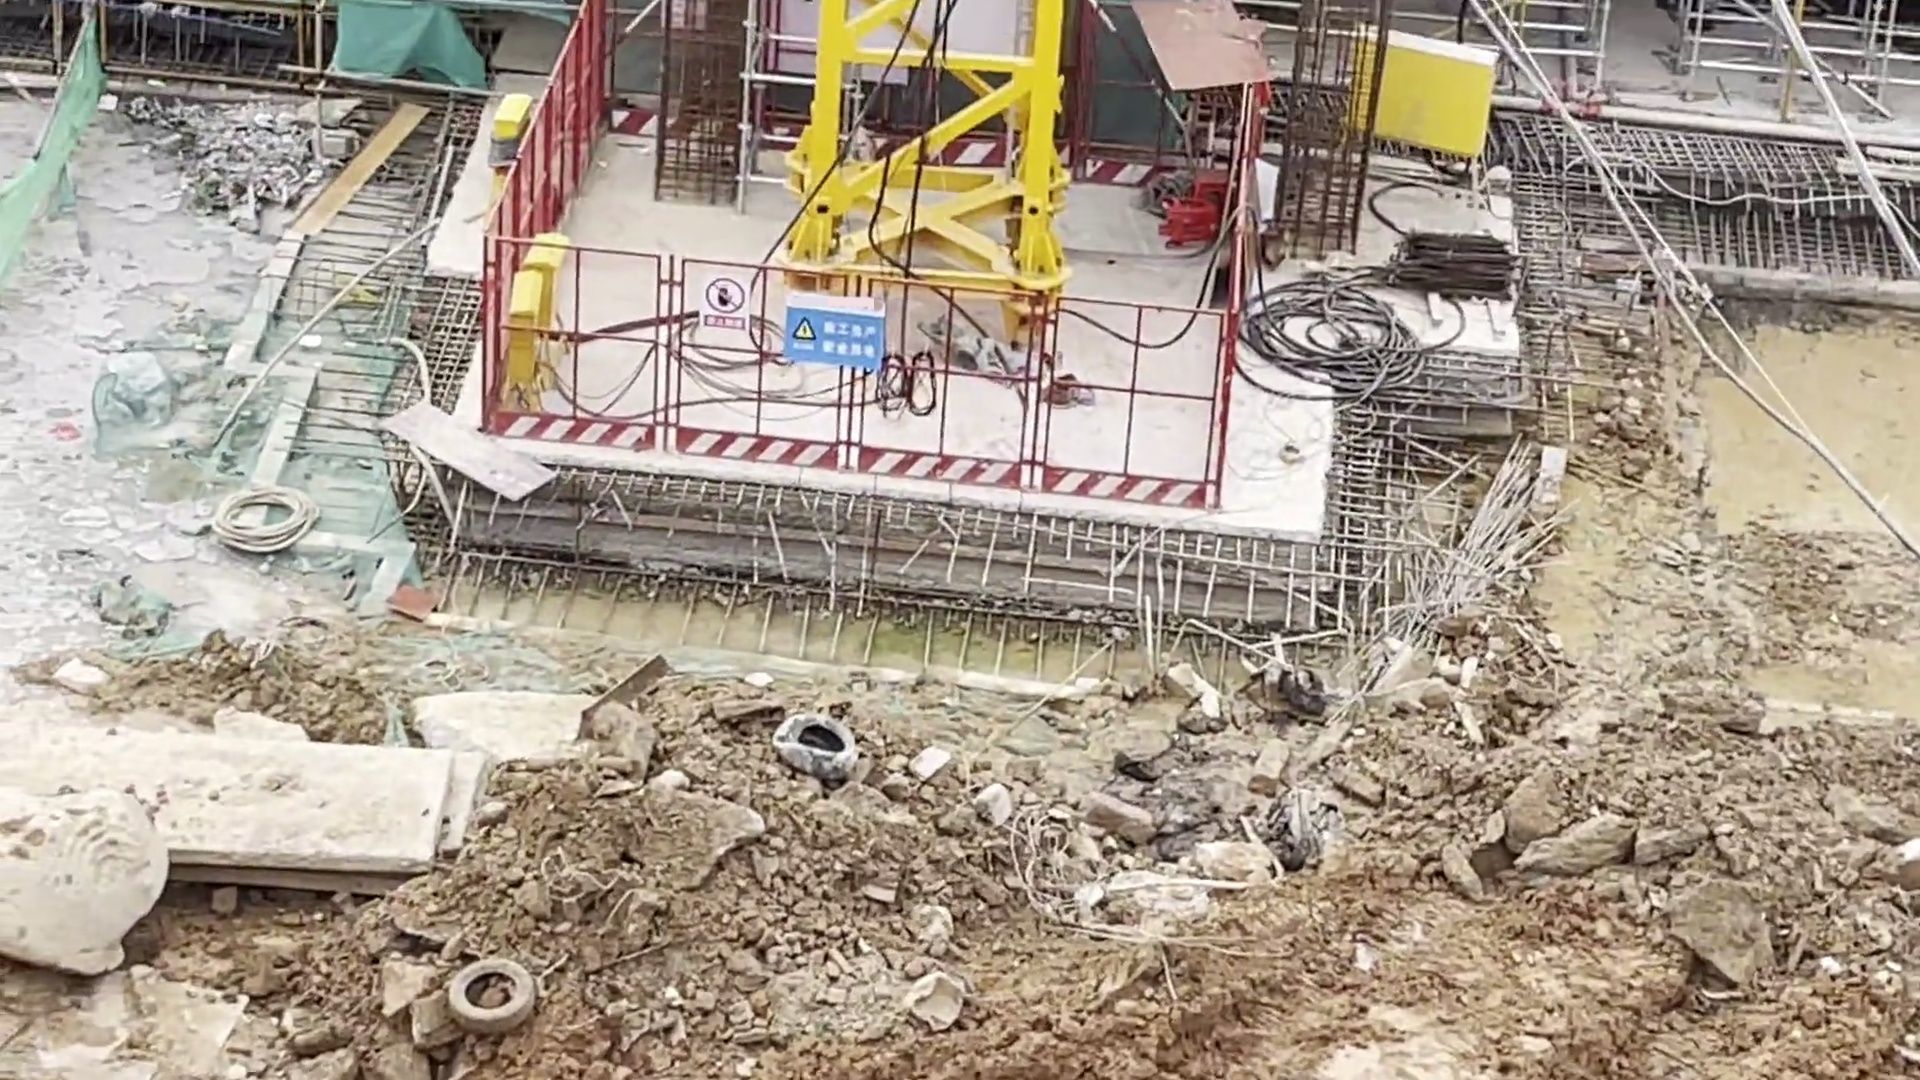ebox: (1345, 24, 1493, 171), (506, 229, 568, 402), (495, 88, 524, 171)
fence: (491, 233, 1228, 506), (485, 16, 603, 404)
slogan: (787, 298, 882, 365), (702, 276, 746, 330)
